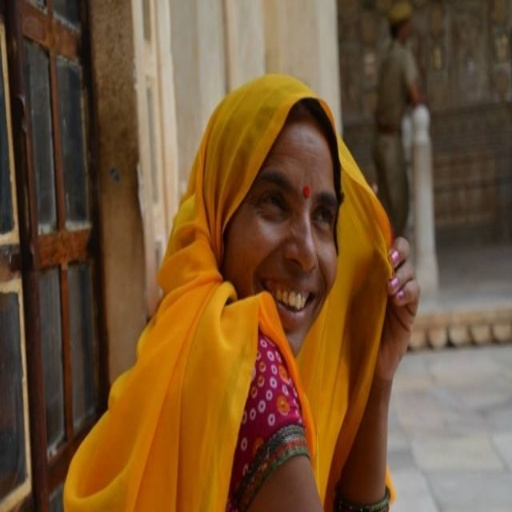hand: (388, 234, 420, 336)
